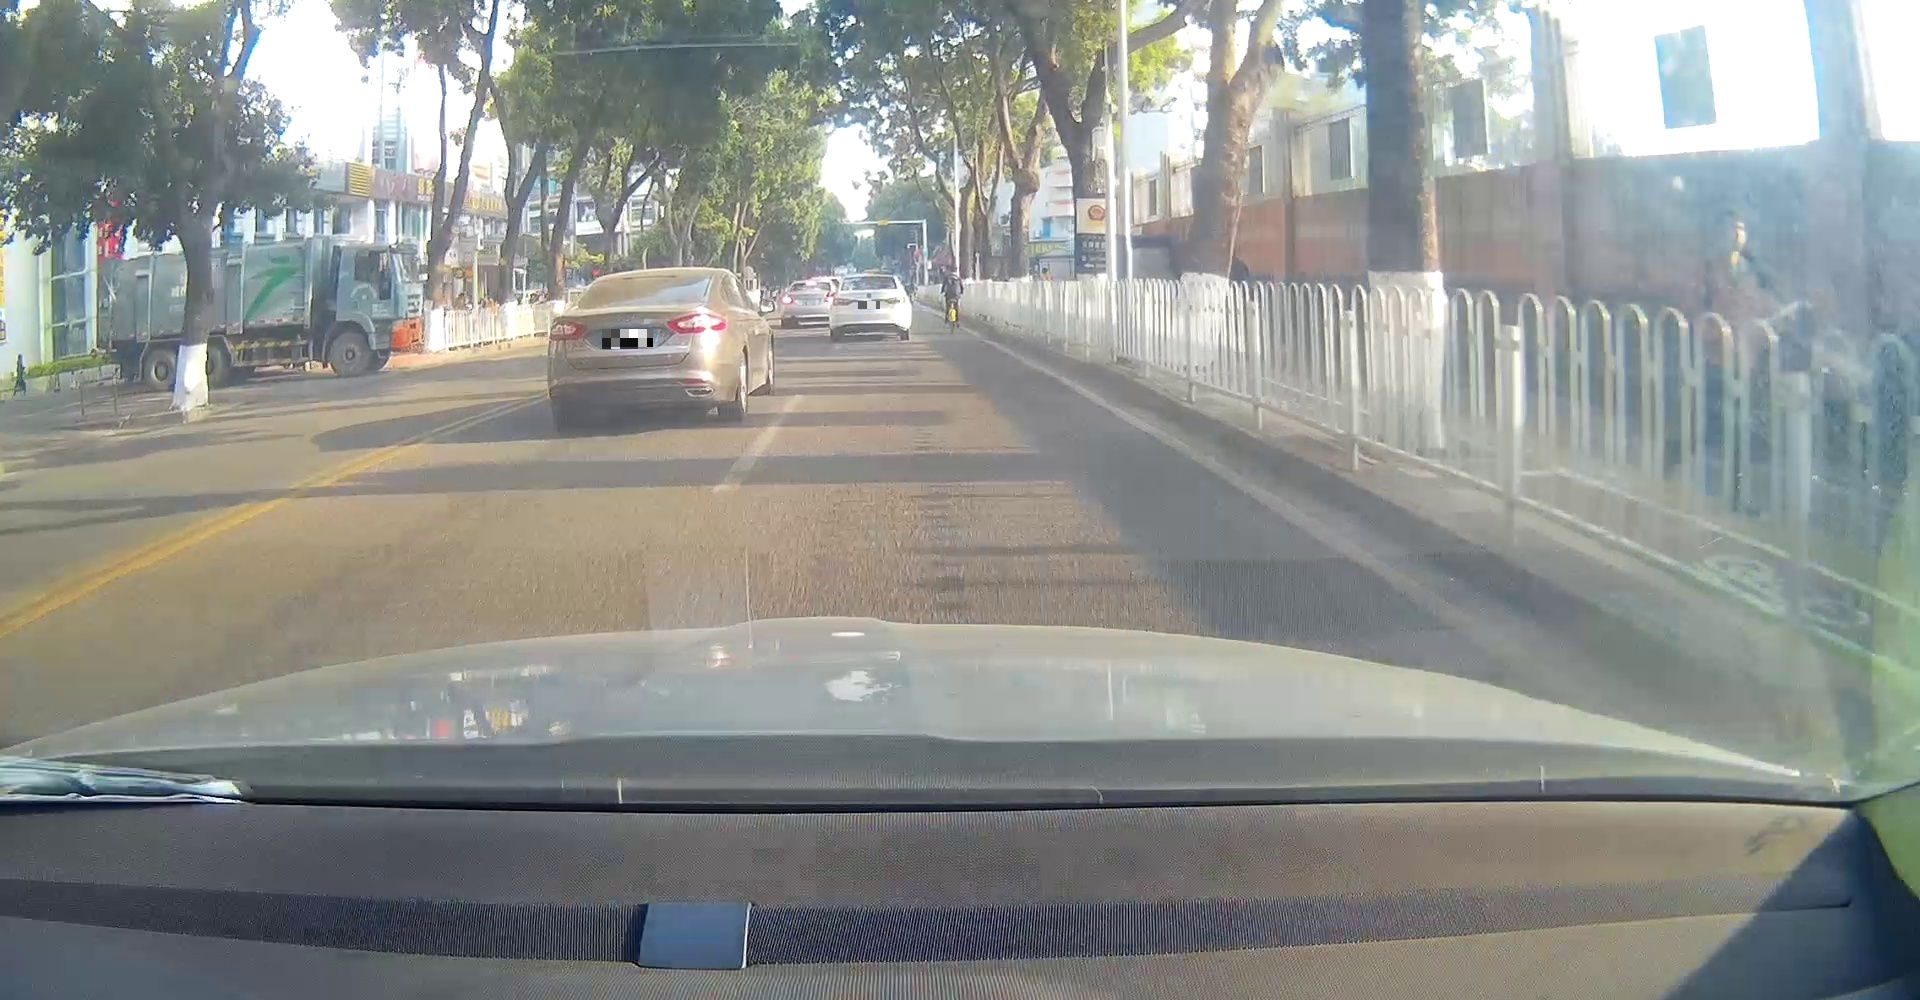L_light: (549, 319, 587, 341), (833, 298, 855, 306)
R_light: (665, 311, 728, 335), (884, 296, 905, 305)
T_light: (622, 275, 676, 279), (862, 275, 874, 279)
day-no: (546, 266, 734, 426), (829, 274, 910, 341)
plate_1: (602, 329, 653, 349)
plate_2: (858, 301, 880, 308)
